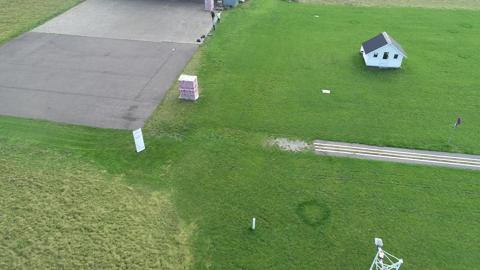RockwoolPallet: (178, 74, 200, 101)
